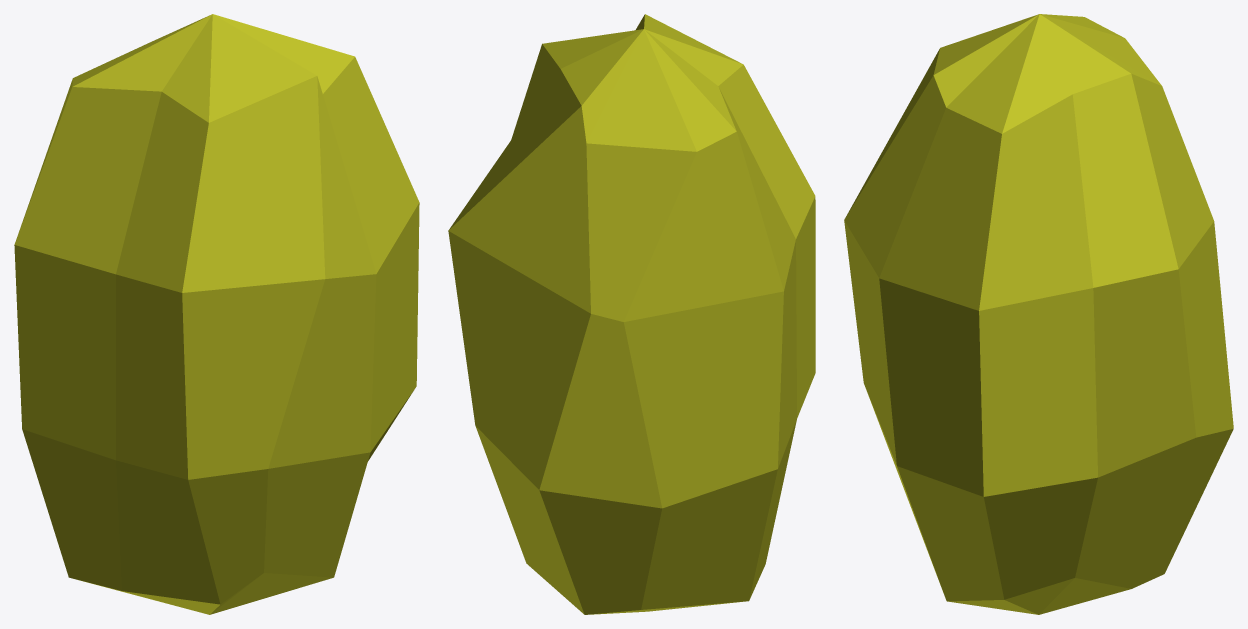
Rendered from Gravity Crystal2.FBX.
3 views of the same model, side by side, from view 1: azimuth 30°, elevation 25°; view 2: azimuth 150°, elevation 25°; view 3: azimuth 270°, elevation 25° (orthographic). The views are drawn at different scales.
Visible parts, largest first — view 1: Sphere001; view 2: Sphere001; view 3: Sphere001.
Boxes of the visible parts, x1,y1,x2,y2 form: Sphere001: (14,14,419,614); Sphere001: (448,14,815,614); Sphere001: (844,14,1233,614).
Size of the model in its own units: 0.4217 by 0.6948 by 0.4072.
